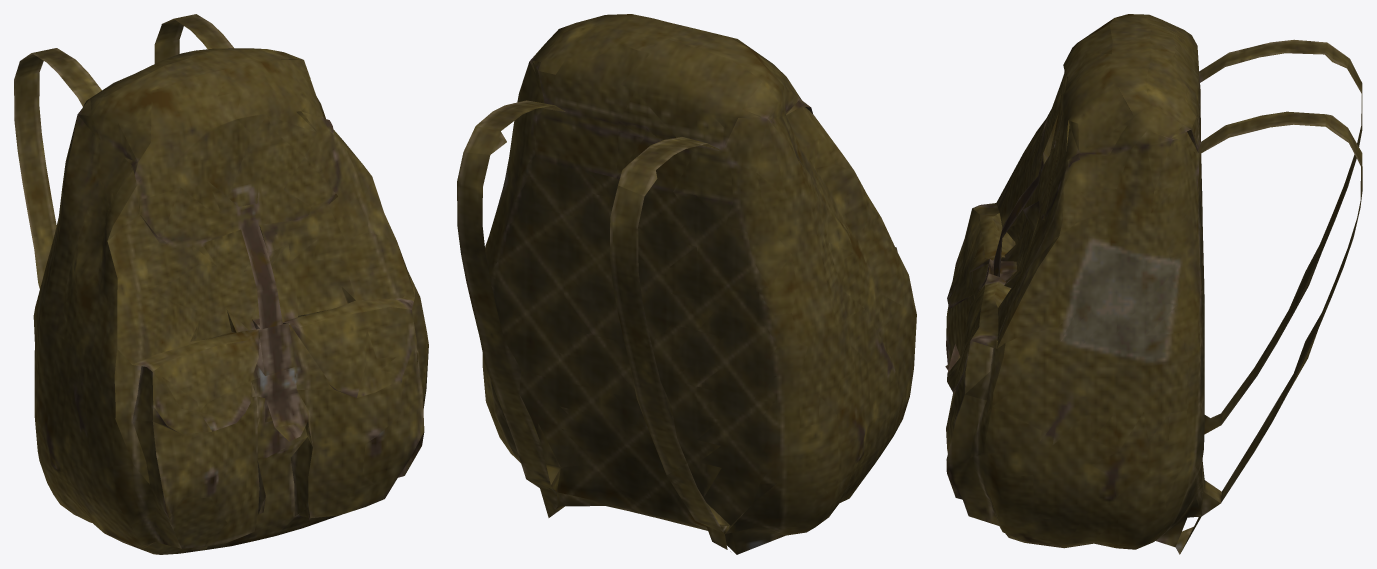
File: wear_rucksack.glb
3 views of the same model, side by side, from view 1: azimuth 30°, elevation 25°; view 2: azimuth 150°, elevation 25°; view 3: azimuth 270°, elevation 25° (orthographic). The views are drawn at different scales.
Visible parts, largest first — view 1: mesh; view 2: mesh; view 3: mesh.
Boxes of the visible parts, x1,y1,x2,y2 form: mesh: [14, 14, 428, 554]; mesh: [457, 14, 916, 554]; mesh: [945, 14, 1362, 554].
Size of the model in its own units: 0.3873 by 0.5 by 0.4044.
Materials: 1 (1 with a texture image).
